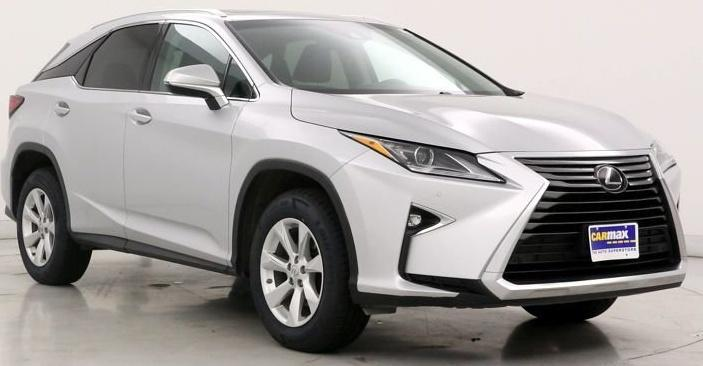Crossovers: (4, 12, 688, 351)
